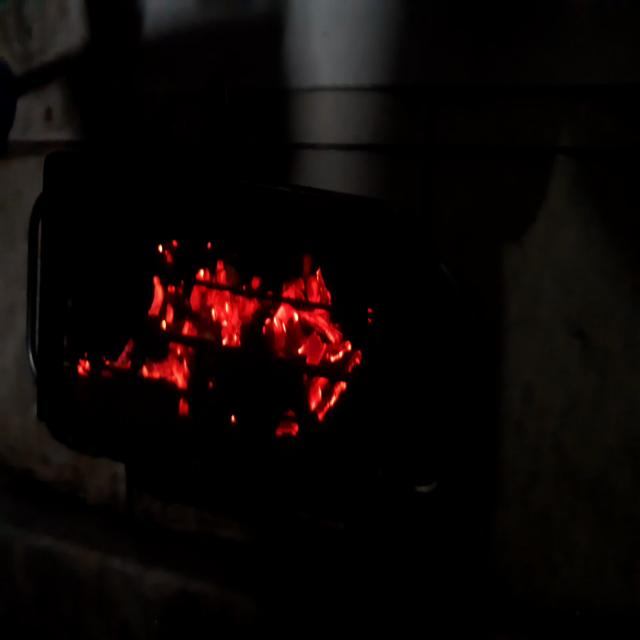Fire: (70, 208, 382, 456)
